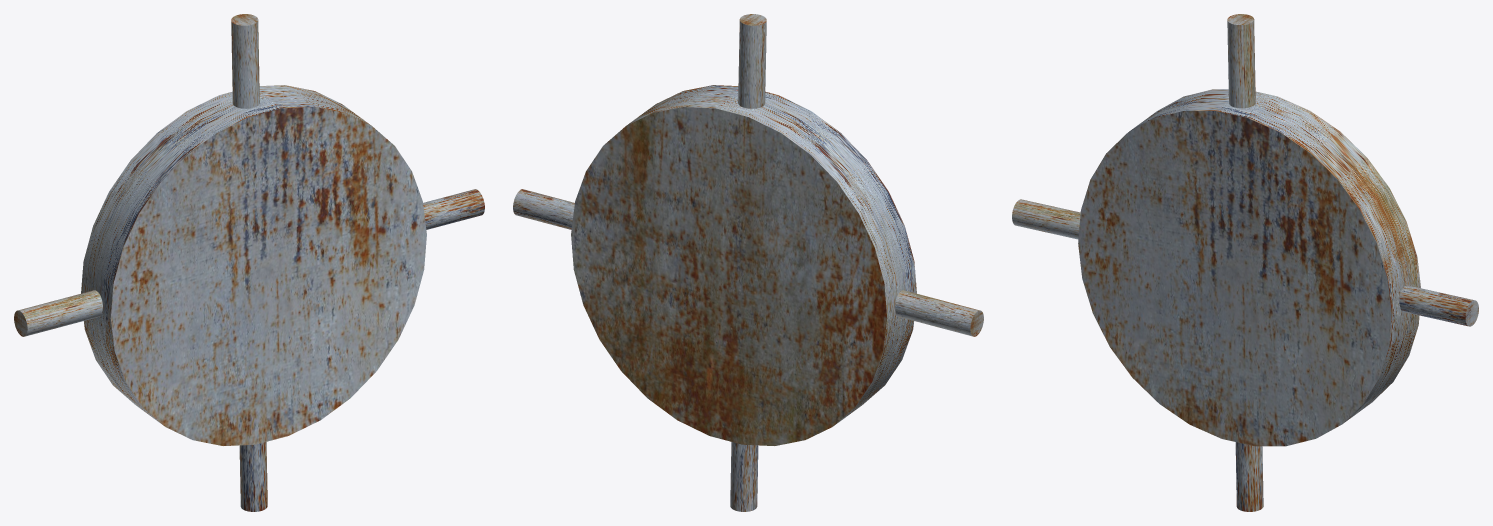
File: roldanaPequena.fbx
3 views of the same model, side by side, from view 1: azimuth 30°, elevation 25°; view 2: azimuth 150°, elevation 25°; view 3: azimuth 330°, elevation 25° (orthographic).
Parts seen in each view (by area): view 1: pCylinder14, pCylinder16, pCylinder15; view 2: pCylinder14, pCylinder16, pCylinder15; view 3: pCylinder14, pCylinder16, pCylinder15.
Part boxes in pixels (<box>): pCylinder14: <box>81,85,426,445</box>; pCylinder16: <box>231,14,267,511</box>; pCylinder15: <box>14,189,484,336</box>; pCylinder14: <box>571,85,916,445</box>; pCylinder16: <box>730,14,766,511</box>; pCylinder15: <box>513,189,983,336</box>; pCylinder14: <box>1078,89,1420,446</box>; pCylinder16: <box>1227,14,1263,511</box>; pCylinder15: <box>1012,199,1478,326</box>.
Bounding box in the file's own units: 2.18 × 2.22 × 0.2472.
